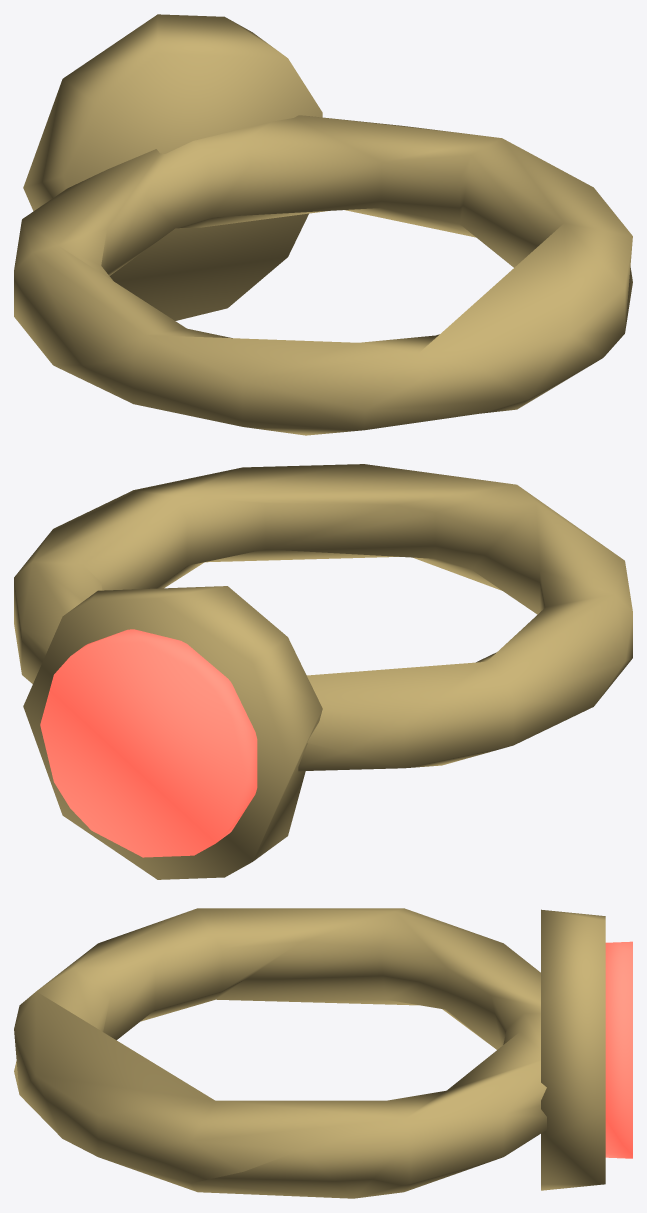
The model's file is acc_blood_ring.glb.
The picture shows the model from 3 angles, top to bottom: view 1: azimuth 30°, elevation 25°; view 2: azimuth 150°, elevation 25°; view 3: azimuth 270°, elevation 25°; orthographic projection. The views are drawn at different scales.
Parts seen in each view (by area): view 1: acc_blood_ring; view 2: acc_blood_ring; view 3: acc_blood_ring.
Part boxes in pixels (left/top/right/bottom): acc_blood_ring: left=14, top=14, right=632, bottom=435; acc_blood_ring: left=14, top=464, right=632, bottom=879; acc_blood_ring: left=14, top=908, right=632, bottom=1198.
Size of the model in its own units: 0.0222 by 0.011 by 0.0239.
